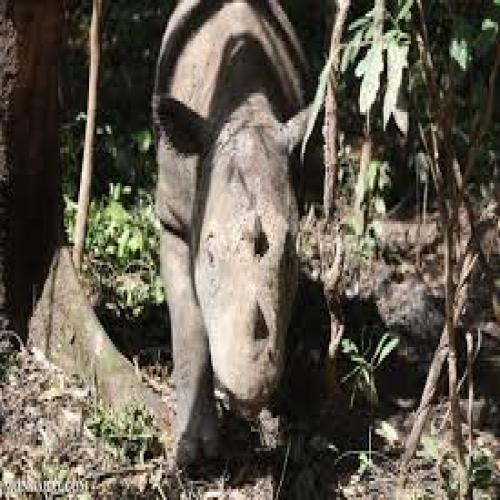rhino-endangered: (136, 5, 334, 478)
